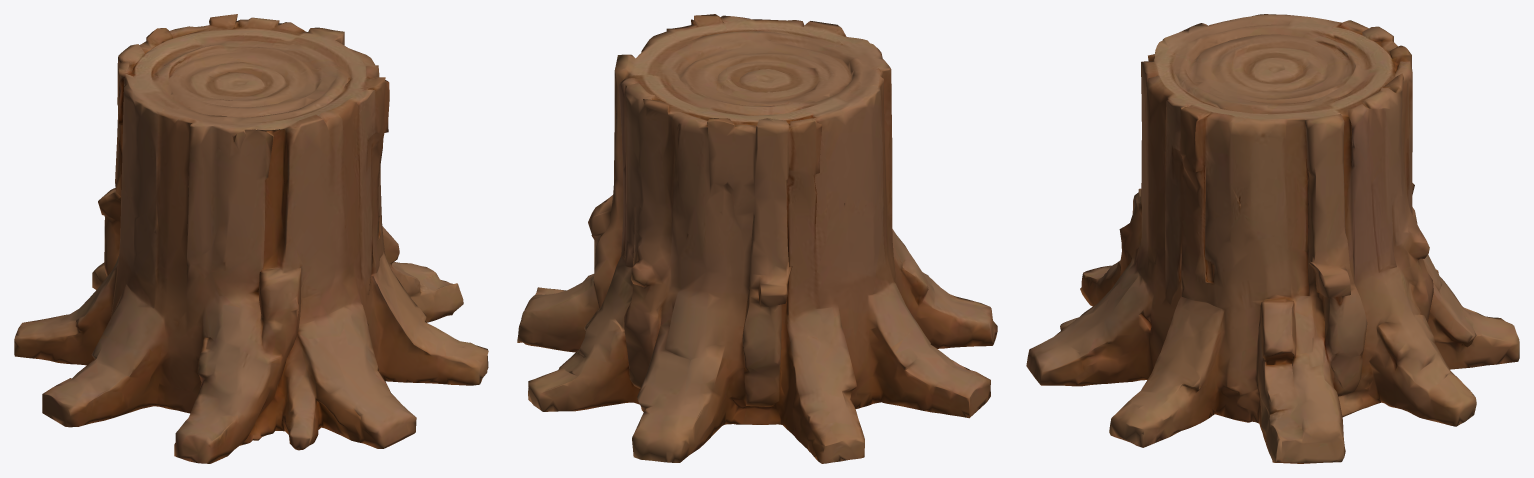
3 views of the same model, side by side, from view 1: azimuth 30°, elevation 25°; view 2: azimuth 150°, elevation 25°; view 3: azimuth 270°, elevation 25° (orthographic). The views are drawn at different scales.
Visible parts, largest first — view 1: tripo_node_fd3df928-be4c-4854-80af-6490a26de1b8; view 2: tripo_node_fd3df928-be4c-4854-80af-6490a26de1b8; view 3: tripo_node_fd3df928-be4c-4854-80af-6490a26de1b8.
Boxes of the visible parts, x1,y1,x2,y2 form: tripo_node_fd3df928-be4c-4854-80af-6490a26de1b8: [14, 14, 488, 463]; tripo_node_fd3df928-be4c-4854-80af-6490a26de1b8: [517, 14, 997, 463]; tripo_node_fd3df928-be4c-4854-80af-6490a26de1b8: [1026, 14, 1519, 463].
Bounding box in the file's own units: 0.7472 × 0.5 × 0.7416.
1 material, 1 textured.
